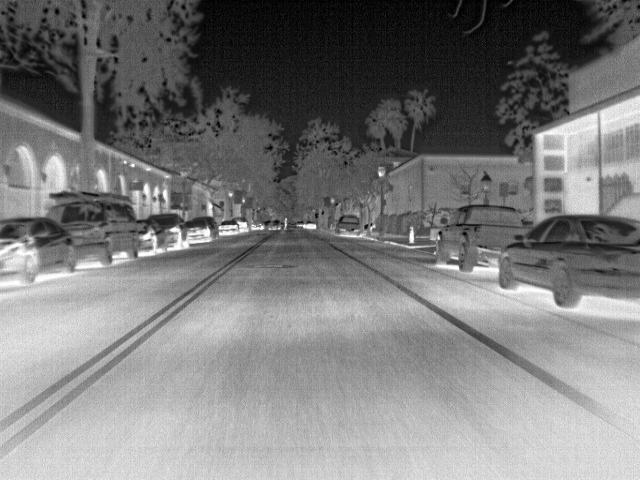car: (498, 214, 639, 308), (435, 203, 533, 273), (43, 201, 138, 265), (0, 216, 78, 282), (145, 213, 189, 250), (134, 217, 166, 255), (184, 217, 212, 242), (334, 215, 361, 235), (230, 218, 250, 236), (218, 220, 240, 236), (266, 218, 282, 232), (248, 220, 265, 232), (301, 220, 318, 230)
person: (282, 214, 290, 232)
